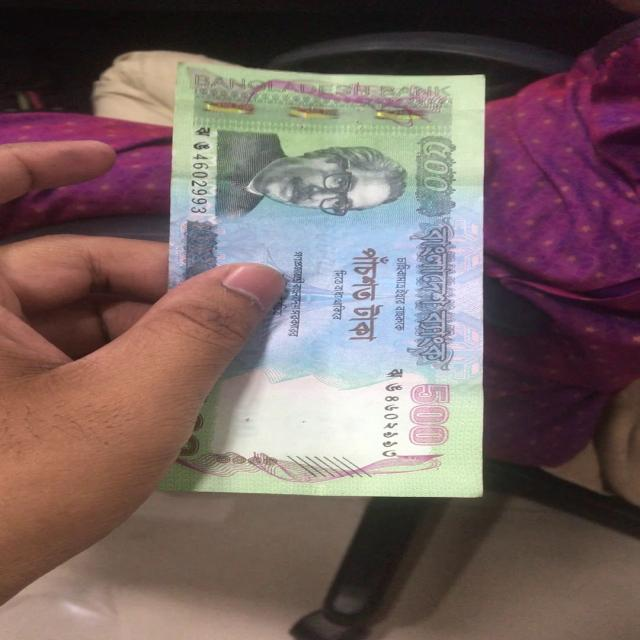Taka: (175, 58, 478, 494)
